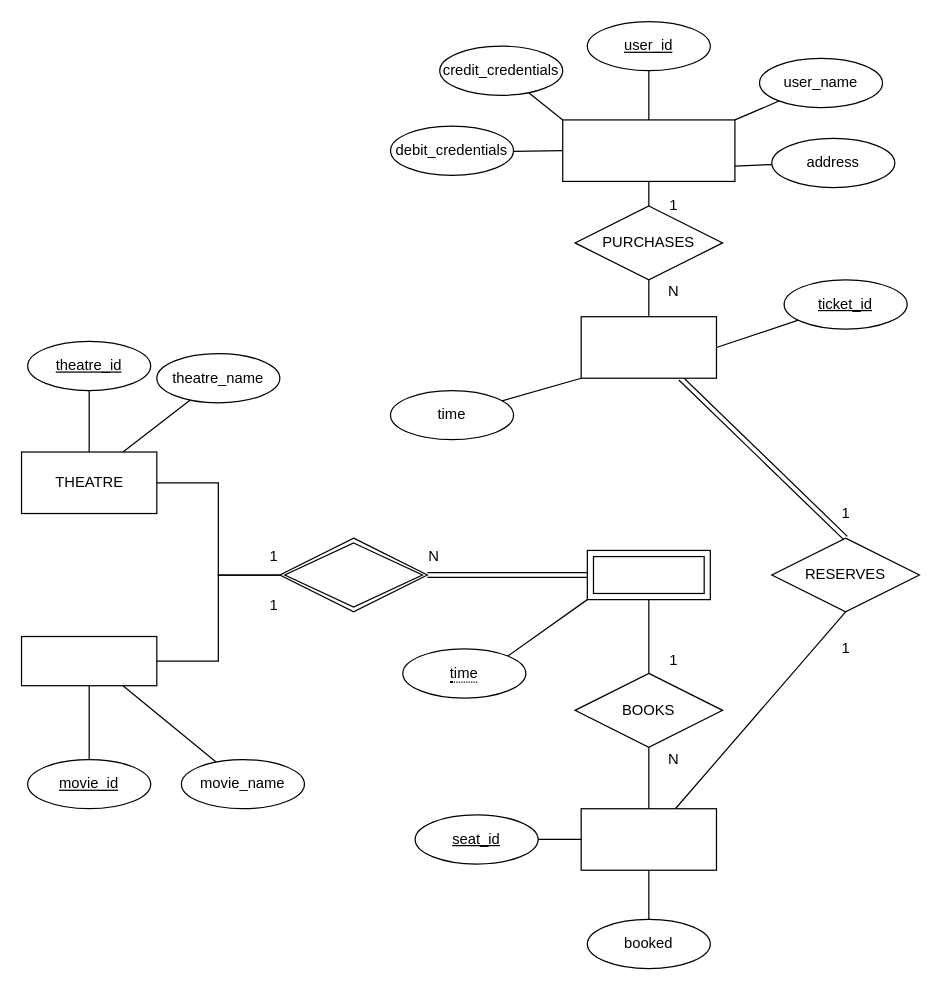
Some shapes in this 941 by 990 pixel diagram are drawn without their labels. Here are the shapes that lost their labels. From the top down, the centre of each, then its label:
(x=648, y=150): REGISTERED_USER
(x=648, y=346): TICKET
(x=353, y=574): DETAILS
(x=648, y=574): SHOWING
(x=88, y=660): MOVIE
(x=648, y=838): SEATS
